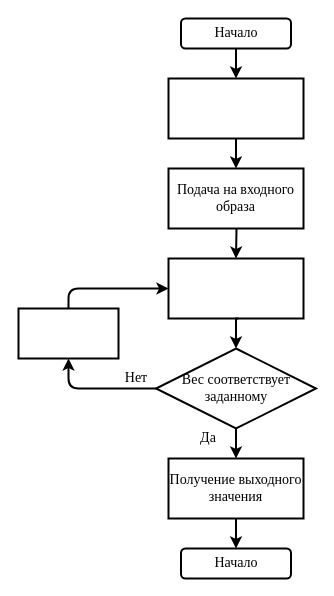
This 334x596 diagram has some shape labels left out. The shapes that lost their labels are listed below. From the top down, each one's centre as x and y in pixels, then its label:
At (x=235, y=108): "Присваивание весов выходных образов".
At (x=235, y=288): "Обработка входа, проверка веса".
At (x=68, y=333): "Корректировка веса".
